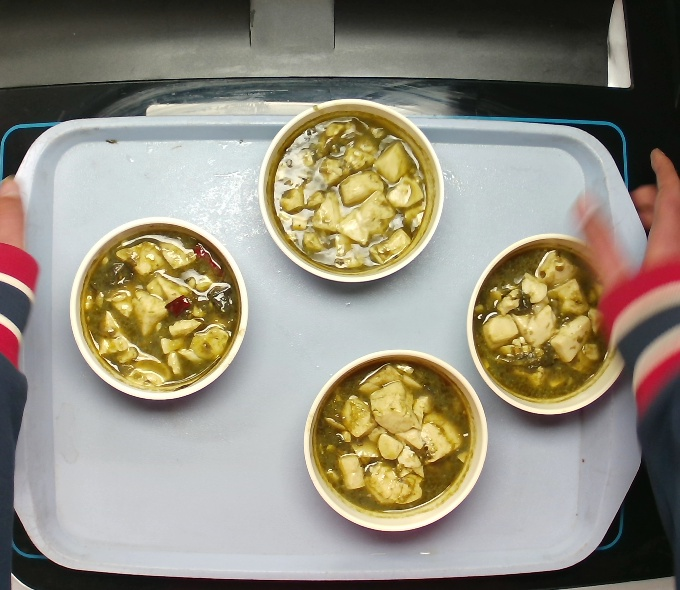wcq-SuanCaiDouFu: (262, 101, 439, 275), (72, 222, 242, 394), (306, 353, 479, 521), (469, 237, 623, 407)
